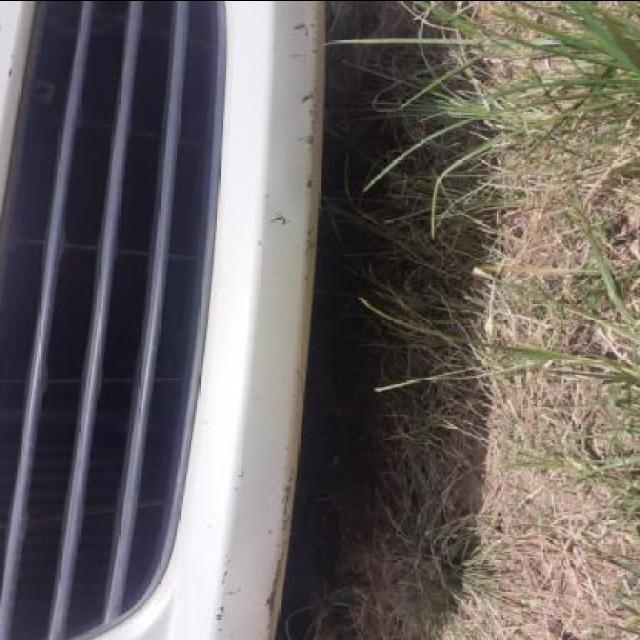front-bumper-dent: (44, 2, 344, 640)
